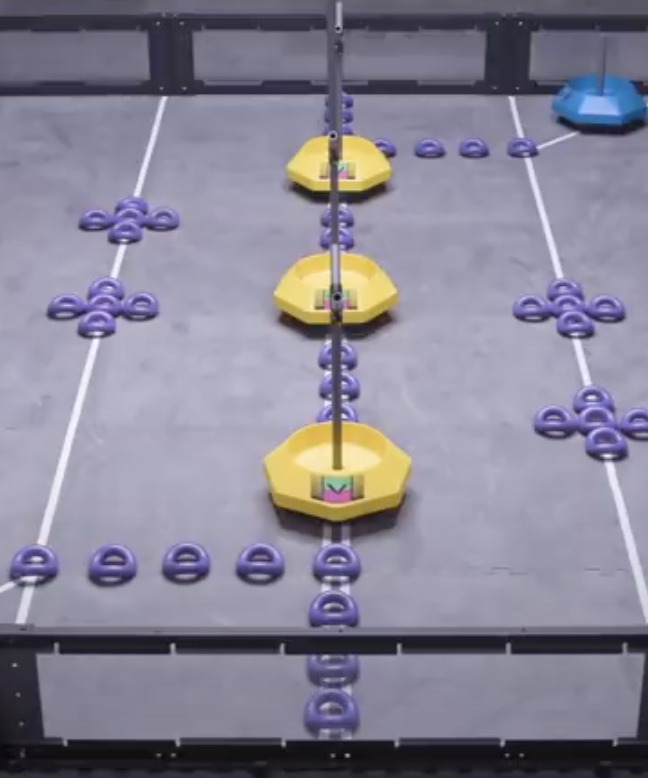ring: (299, 688, 360, 728), (86, 542, 137, 587), (162, 541, 210, 581), (235, 542, 284, 581), (310, 589, 360, 627), (312, 545, 362, 582), (9, 545, 58, 582), (305, 652, 361, 679), (584, 426, 629, 456), (534, 404, 576, 432), (577, 407, 620, 432), (512, 294, 549, 322), (574, 385, 614, 410), (78, 310, 116, 336), (121, 291, 157, 318), (320, 373, 360, 397), (588, 294, 624, 320), (47, 294, 85, 318), (319, 342, 356, 366), (88, 276, 123, 301), (557, 312, 594, 335), (84, 294, 122, 315), (317, 404, 361, 422), (146, 207, 180, 230), (107, 220, 142, 242), (546, 278, 582, 299), (78, 208, 111, 230), (551, 295, 584, 317), (622, 408, 648, 435), (459, 137, 490, 158), (321, 227, 355, 246), (414, 137, 444, 158), (321, 205, 354, 224), (508, 137, 538, 157), (114, 208, 145, 225), (370, 137, 396, 157), (117, 197, 148, 212), (323, 107, 354, 122), (323, 123, 355, 136), (324, 92, 356, 105)
